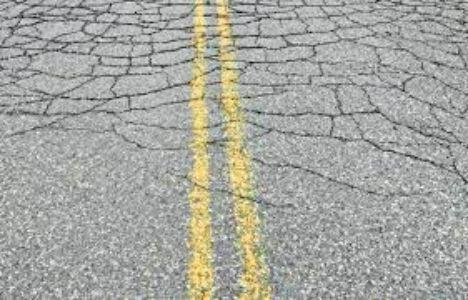alligator-crack: (3, 1, 468, 196)
